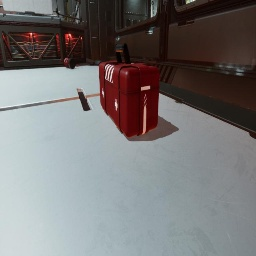FireExtinguisher ]: (61, 58, 76, 69)
FirstAidBox ,: (99, 43, 160, 138)
